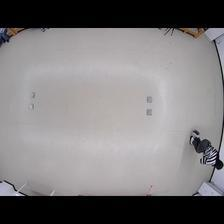fall: (189, 128, 224, 171)
